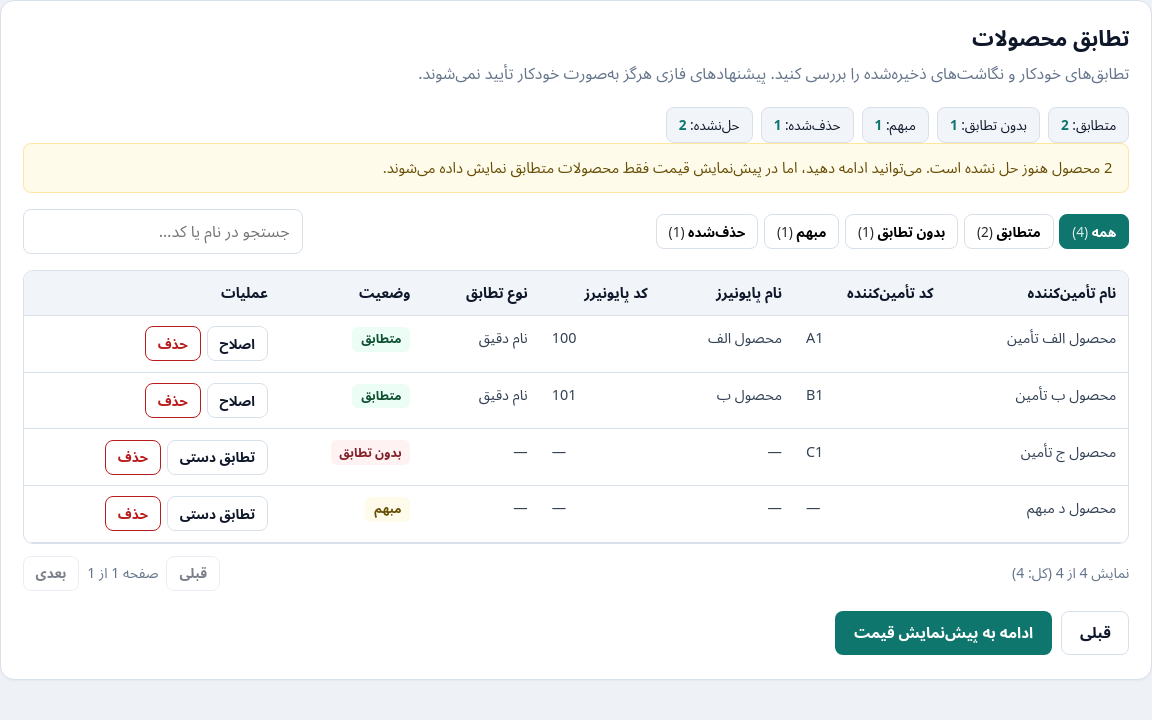
Scenario: MatchingStep › restores a deleted product through the API
Check: the text "محصول الف تأمین" is shown, box x1=946 y1=315 x2=1128 y2=372
Click the tab "حذف‌شده (1)" at (707, 231), box x1=656 y1=214 x2=758 y2=249
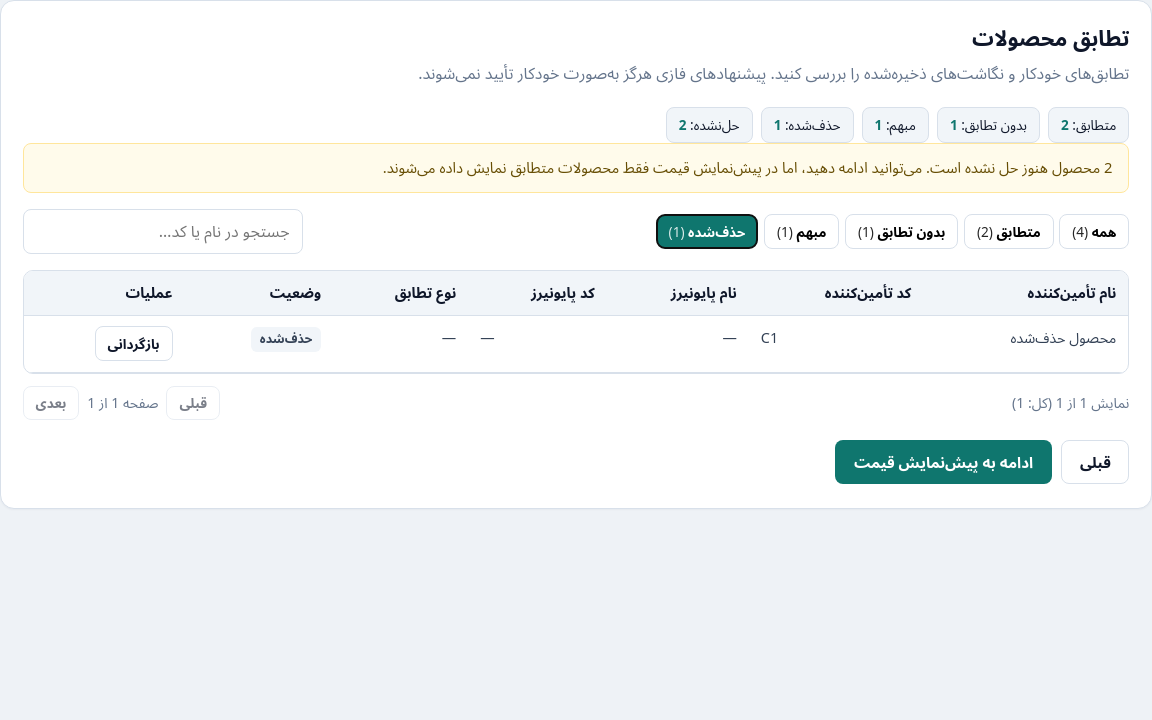
Click the button "بازگردانی" at (134, 344), box x1=95 y1=326 x2=173 y2=361
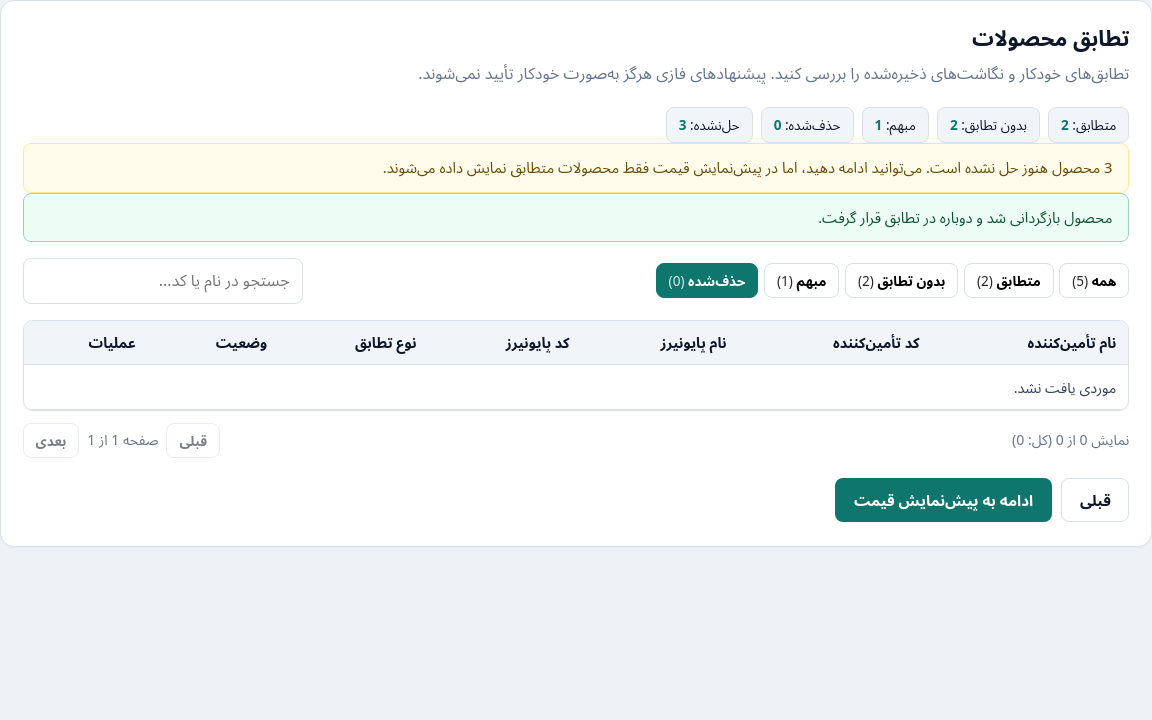
Check: the text "محصول بازگردانی شد و دوباره در تطابق قرار گرفت." is shown, box x1=23 y1=193 x2=1129 y2=242
